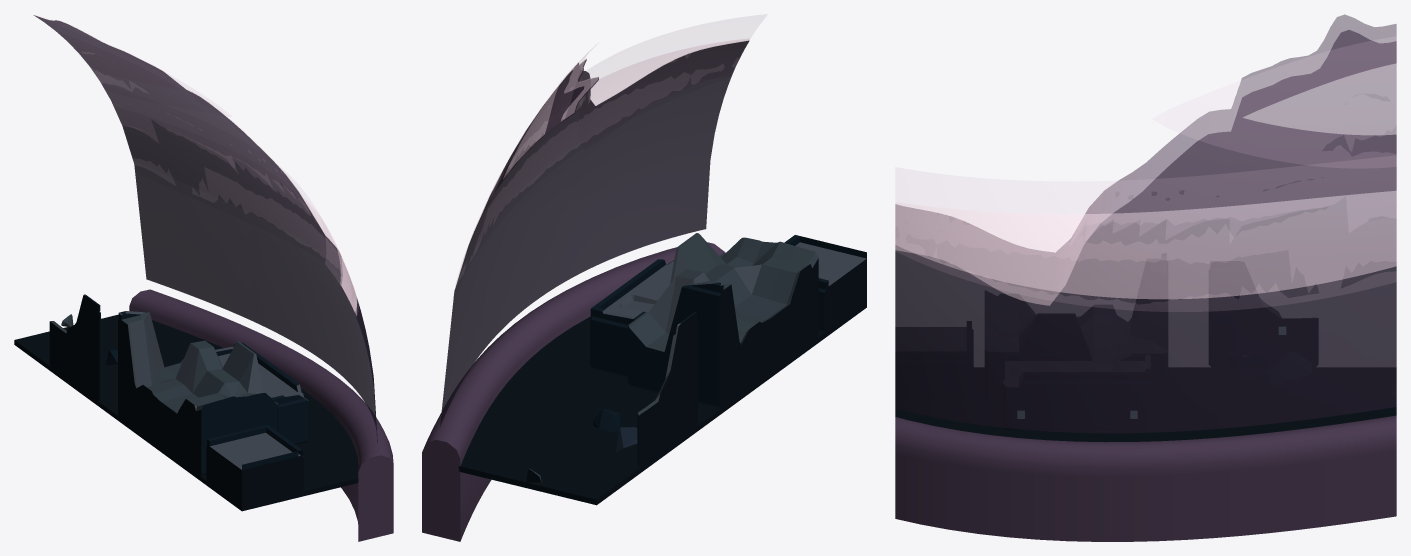
File: purple_dome_mr_wreck.glb
3 views of the same model, side by side, from view 1: azimuth 30°, elevation 25°; view 2: azimuth 150°, elevation 25°; view 3: azimuth 270°, elevation 25° (orthographic). The views are drawn at different scales.
Visible parts, largest first — view 1: purple_dome_mr_wreck; view 2: purple_dome_mr_wreck; view 3: purple_dome_mr_wreck.
Part boxes in pixels (x1,y1,x2,y2): purple_dome_mr_wreck: [14, 14, 393, 541]; purple_dome_mr_wreck: [422, 15, 866, 541]; purple_dome_mr_wreck: [895, 14, 1396, 541].
Size of the model in its own units: 13.83 by 26.82 by 28.
